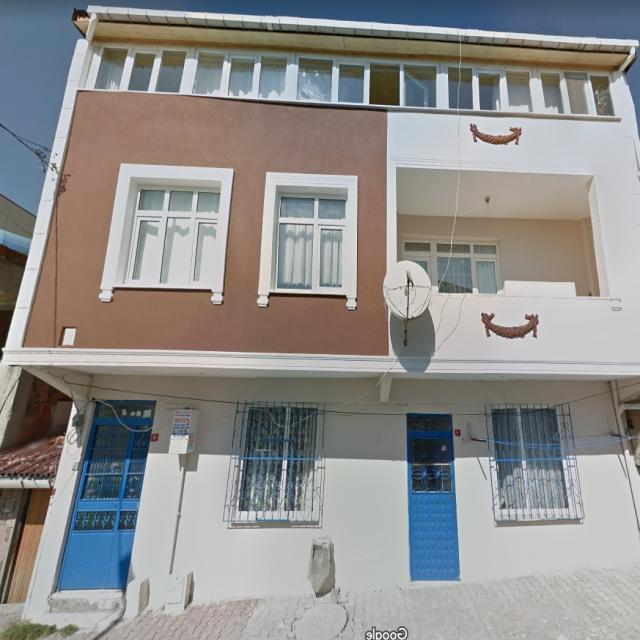Building: (2, 6, 640, 616)
